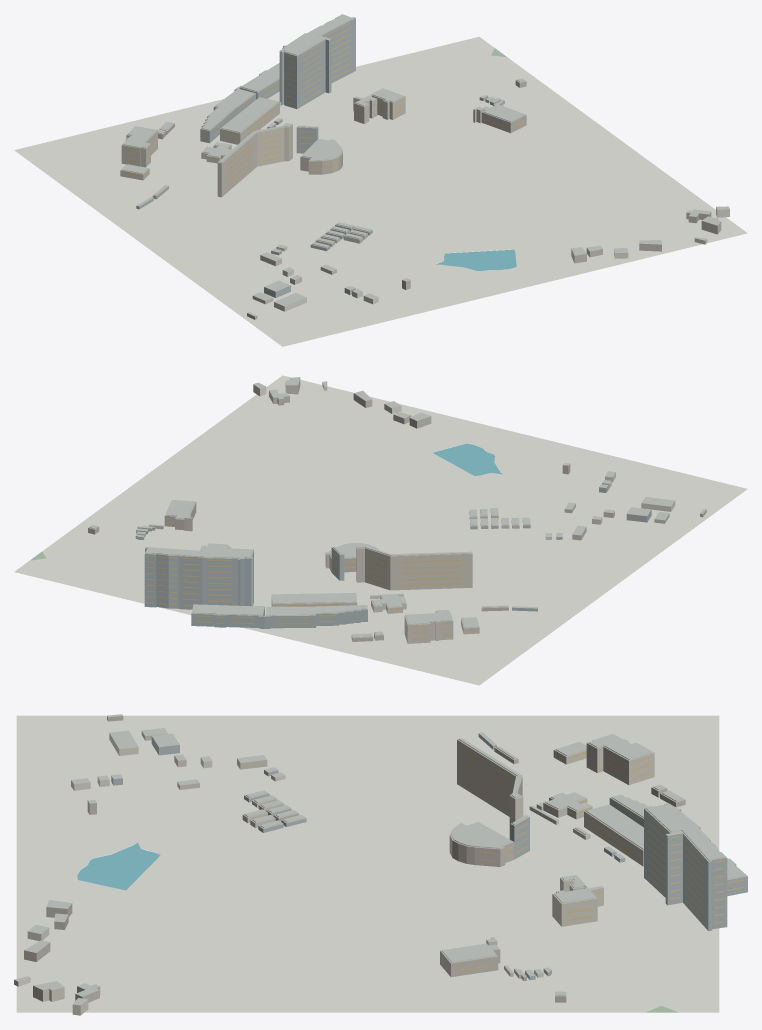
3 renders of one model, top to bottom at view 1: azimuth 30°, elevation 25°; view 2: azimuth 150°, elevation 25°; view 3: azimuth 270°, elevation 25°, orthographic. The views are drawn at different scales.
Visible parts, largest first — view 1: city; view 2: city; view 3: city.
Boxes of the visible parts, x1,y1,x2,y2 form: city: (14,14,747,346); city: (14,375,747,685); city: (14,714,747,1015).
Size of the model in its own units: 505 by 55.18 by 522.
